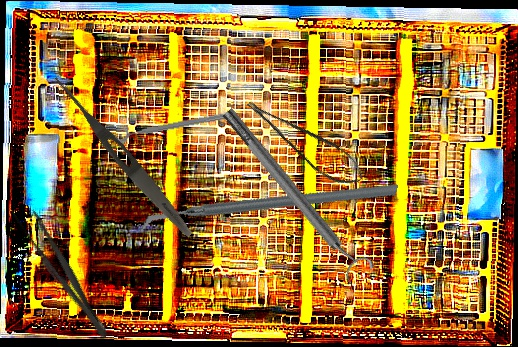Chopper: (138, 113, 400, 304)
Dressing Forceps: (46, 71, 198, 242), (7, 198, 117, 344)
Fixation Ring: (214, 99, 377, 288), (111, 103, 230, 144)
Micro Scissor: (244, 82, 369, 197)
